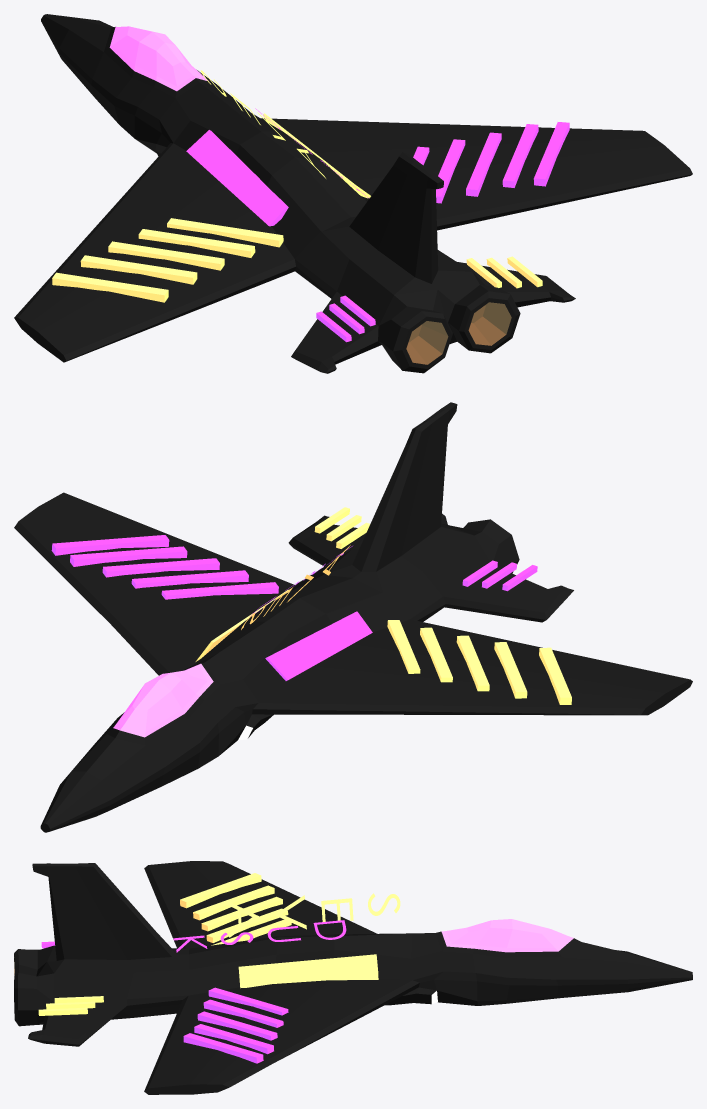
File: neolowpolyjet.glb
The picture shows the model from 3 angles, top to bottom: view 1: azimuth 30°, elevation 25°; view 2: azimuth 150°, elevation 25°; view 3: azimuth 270°, elevation 25°; orthographic projection. The views are drawn at different scales.
Visible parts, largest first — view 1: Jet; view 2: Jet; view 3: Jet, Seva, Dusk.
Part boxes in pixels (<box>): Jet: <box>14,14,692,373</box>; Jet: <box>14,402,692,832</box>; Jet: <box>14,861,692,1094</box>; Seva: <box>227,893,400,937</box>; Dusk: <box>173,920,346,952</box>.
Bounding box in the file's own units: 12.12 × 3.36 × 13.83.
